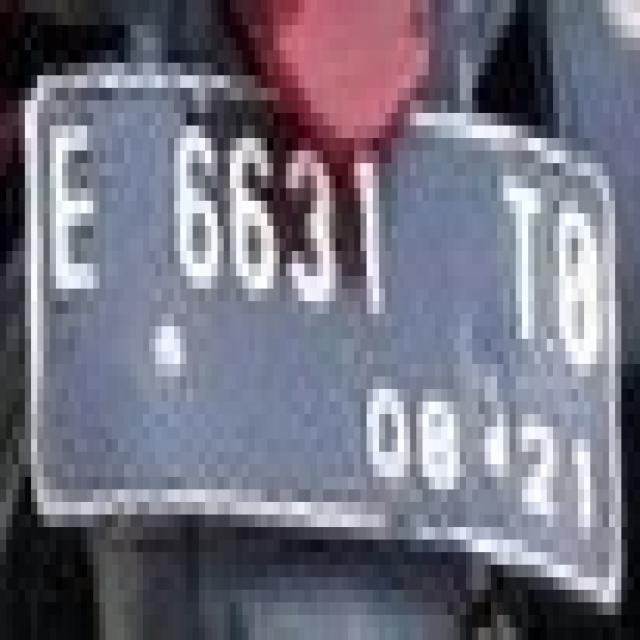plate: (12, 63, 622, 590)
